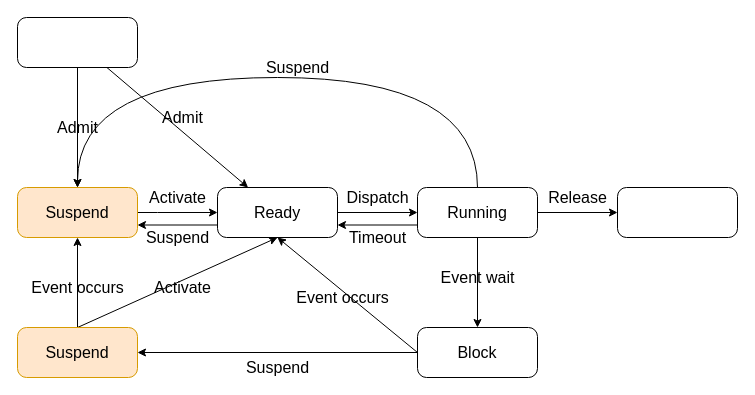
Some shapes in this 755 by 395 pixel diagram are drawn without their labels. Each missing label, with the centre of its shape:
"Exit" goes at [677,212].
"New" goes at [77,42].
